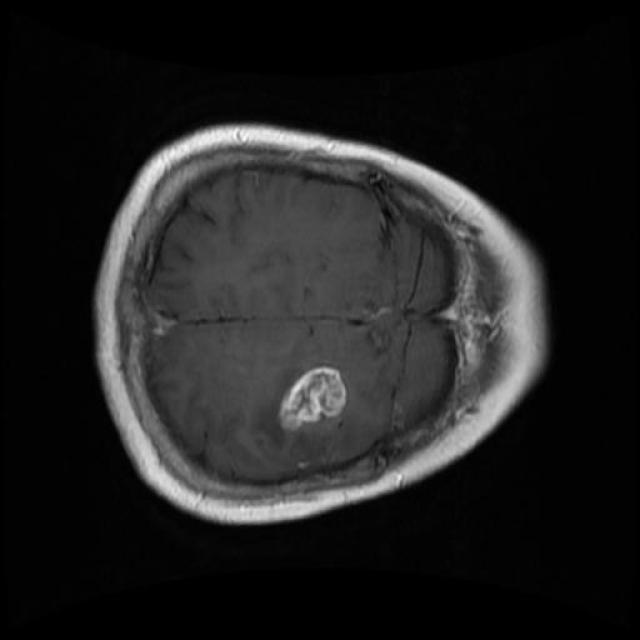Glioma: (279, 366, 346, 431), (150, 310, 177, 336)
